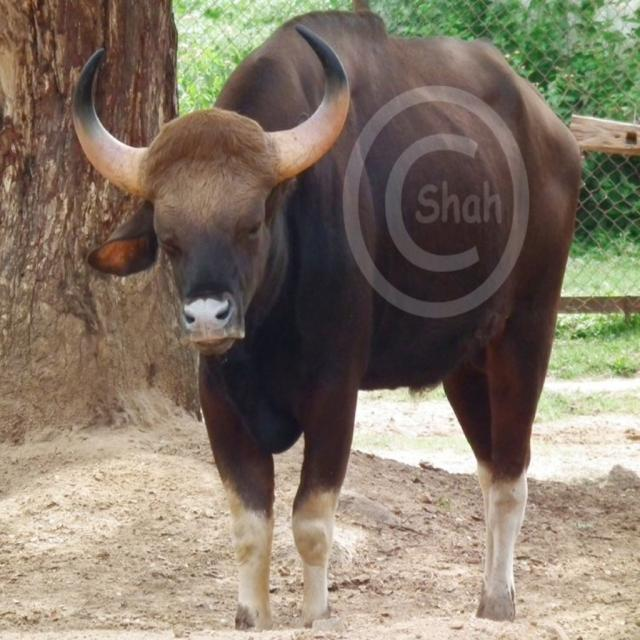Cattle: (73, 10, 581, 631)
